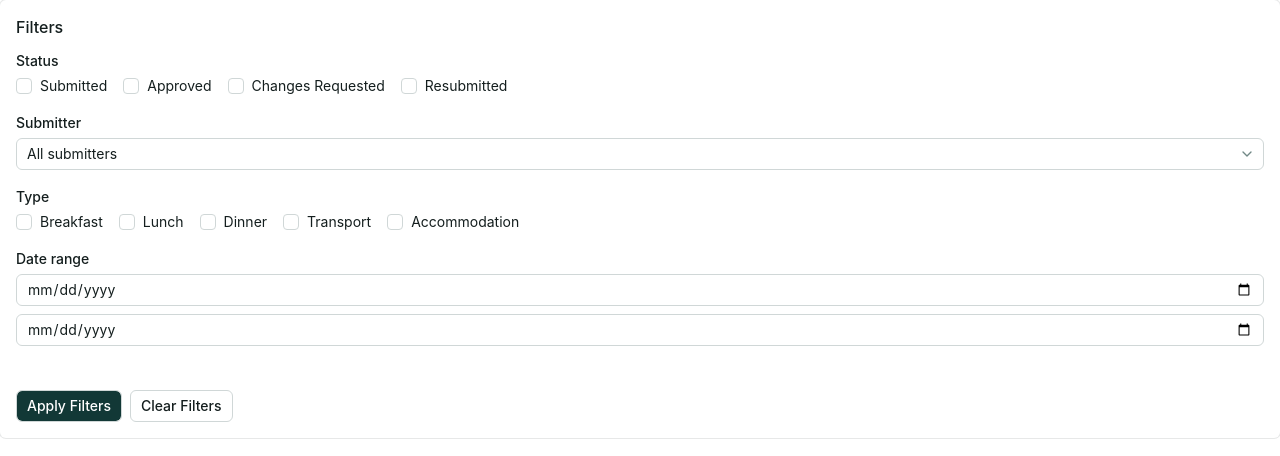
Test: FilterPanel › clears the form and notifies the parent on Clear Filters
Click the checkbox named "Submitted". click: (24, 86)
box: x1=16 y1=78 x2=32 y2=94
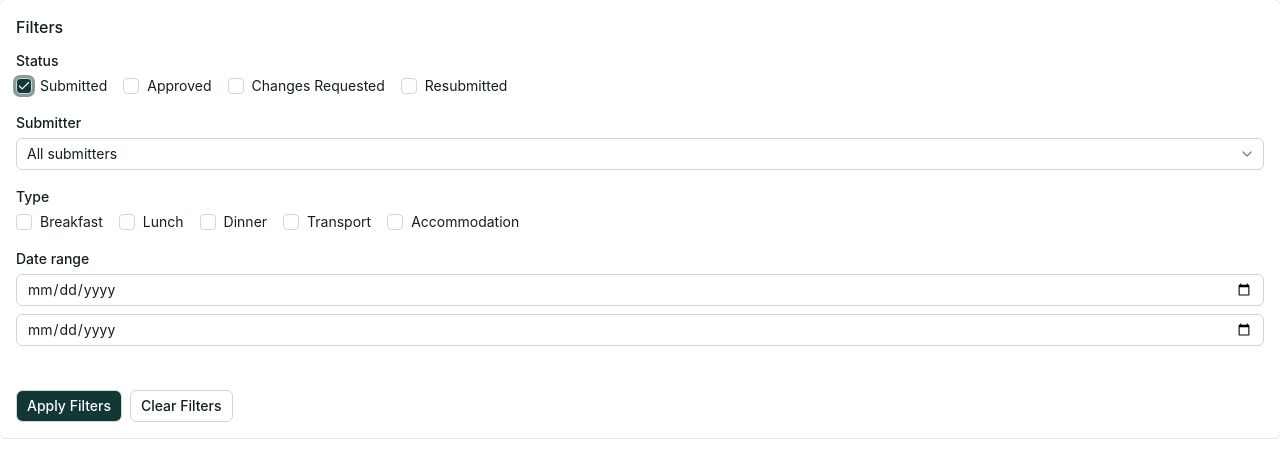
Type "2025-07-01" into the date field named "From date". click: (640, 290)
box: x1=16 y1=274 x2=1264 y2=306
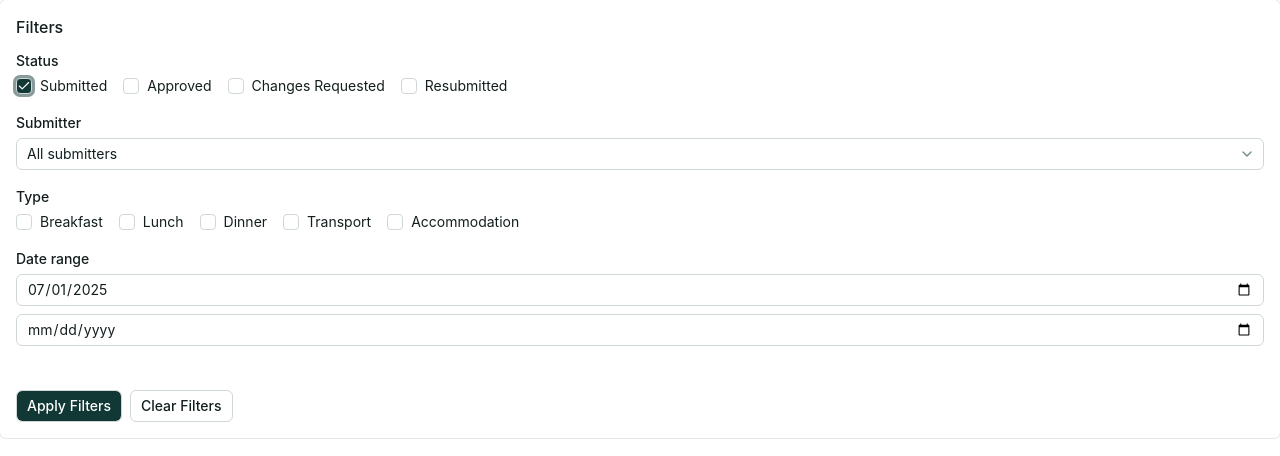
Type "2025-07-31" into the date field named "To date". click: (640, 330)
box: x1=16 y1=314 x2=1264 y2=346
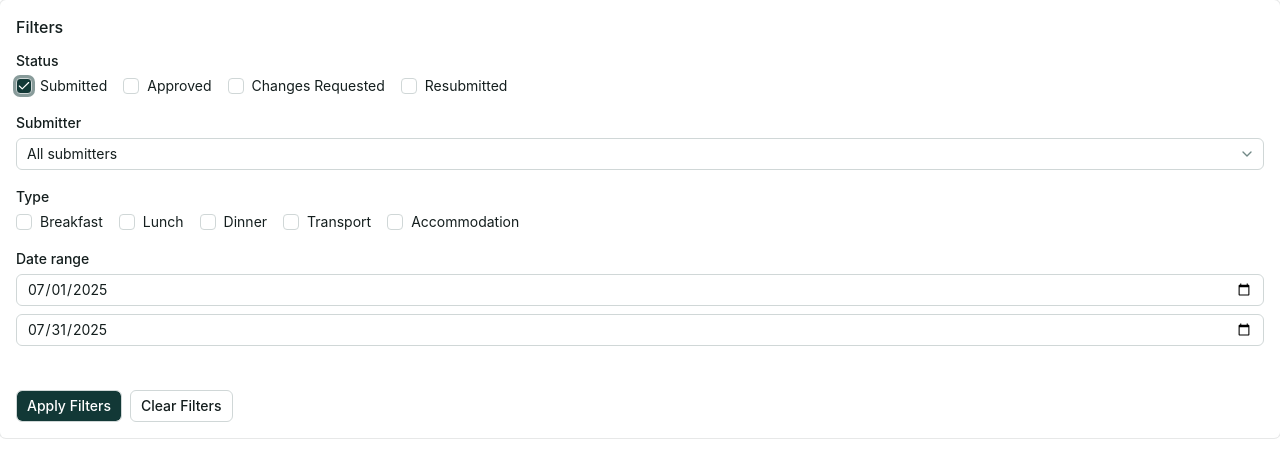
Click the button "Clear Filters". click: (181, 406)
box: x1=130 y1=390 x2=233 y2=422
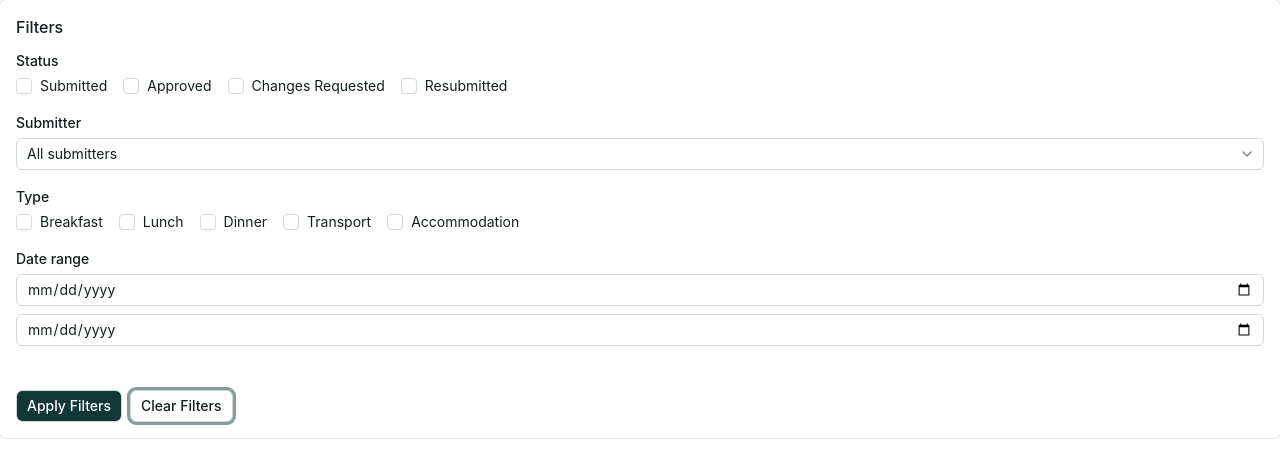
Check: the checkbox named "Submitted" is not checked, box x1=16 y1=78 x2=32 y2=94
Check: the date field named "From date" is empty, box x1=16 y1=274 x2=1264 y2=306
Check: the date field named "To date" is empty, box x1=16 y1=314 x2=1264 y2=346
